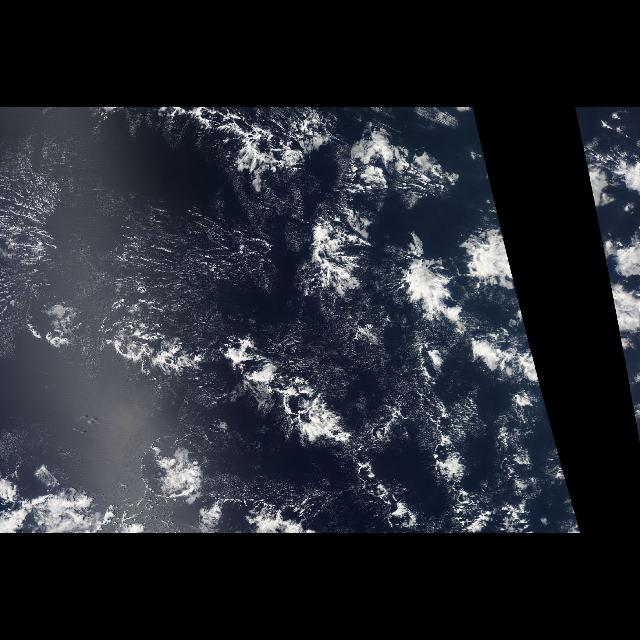Flower: (74, 148, 544, 526)
